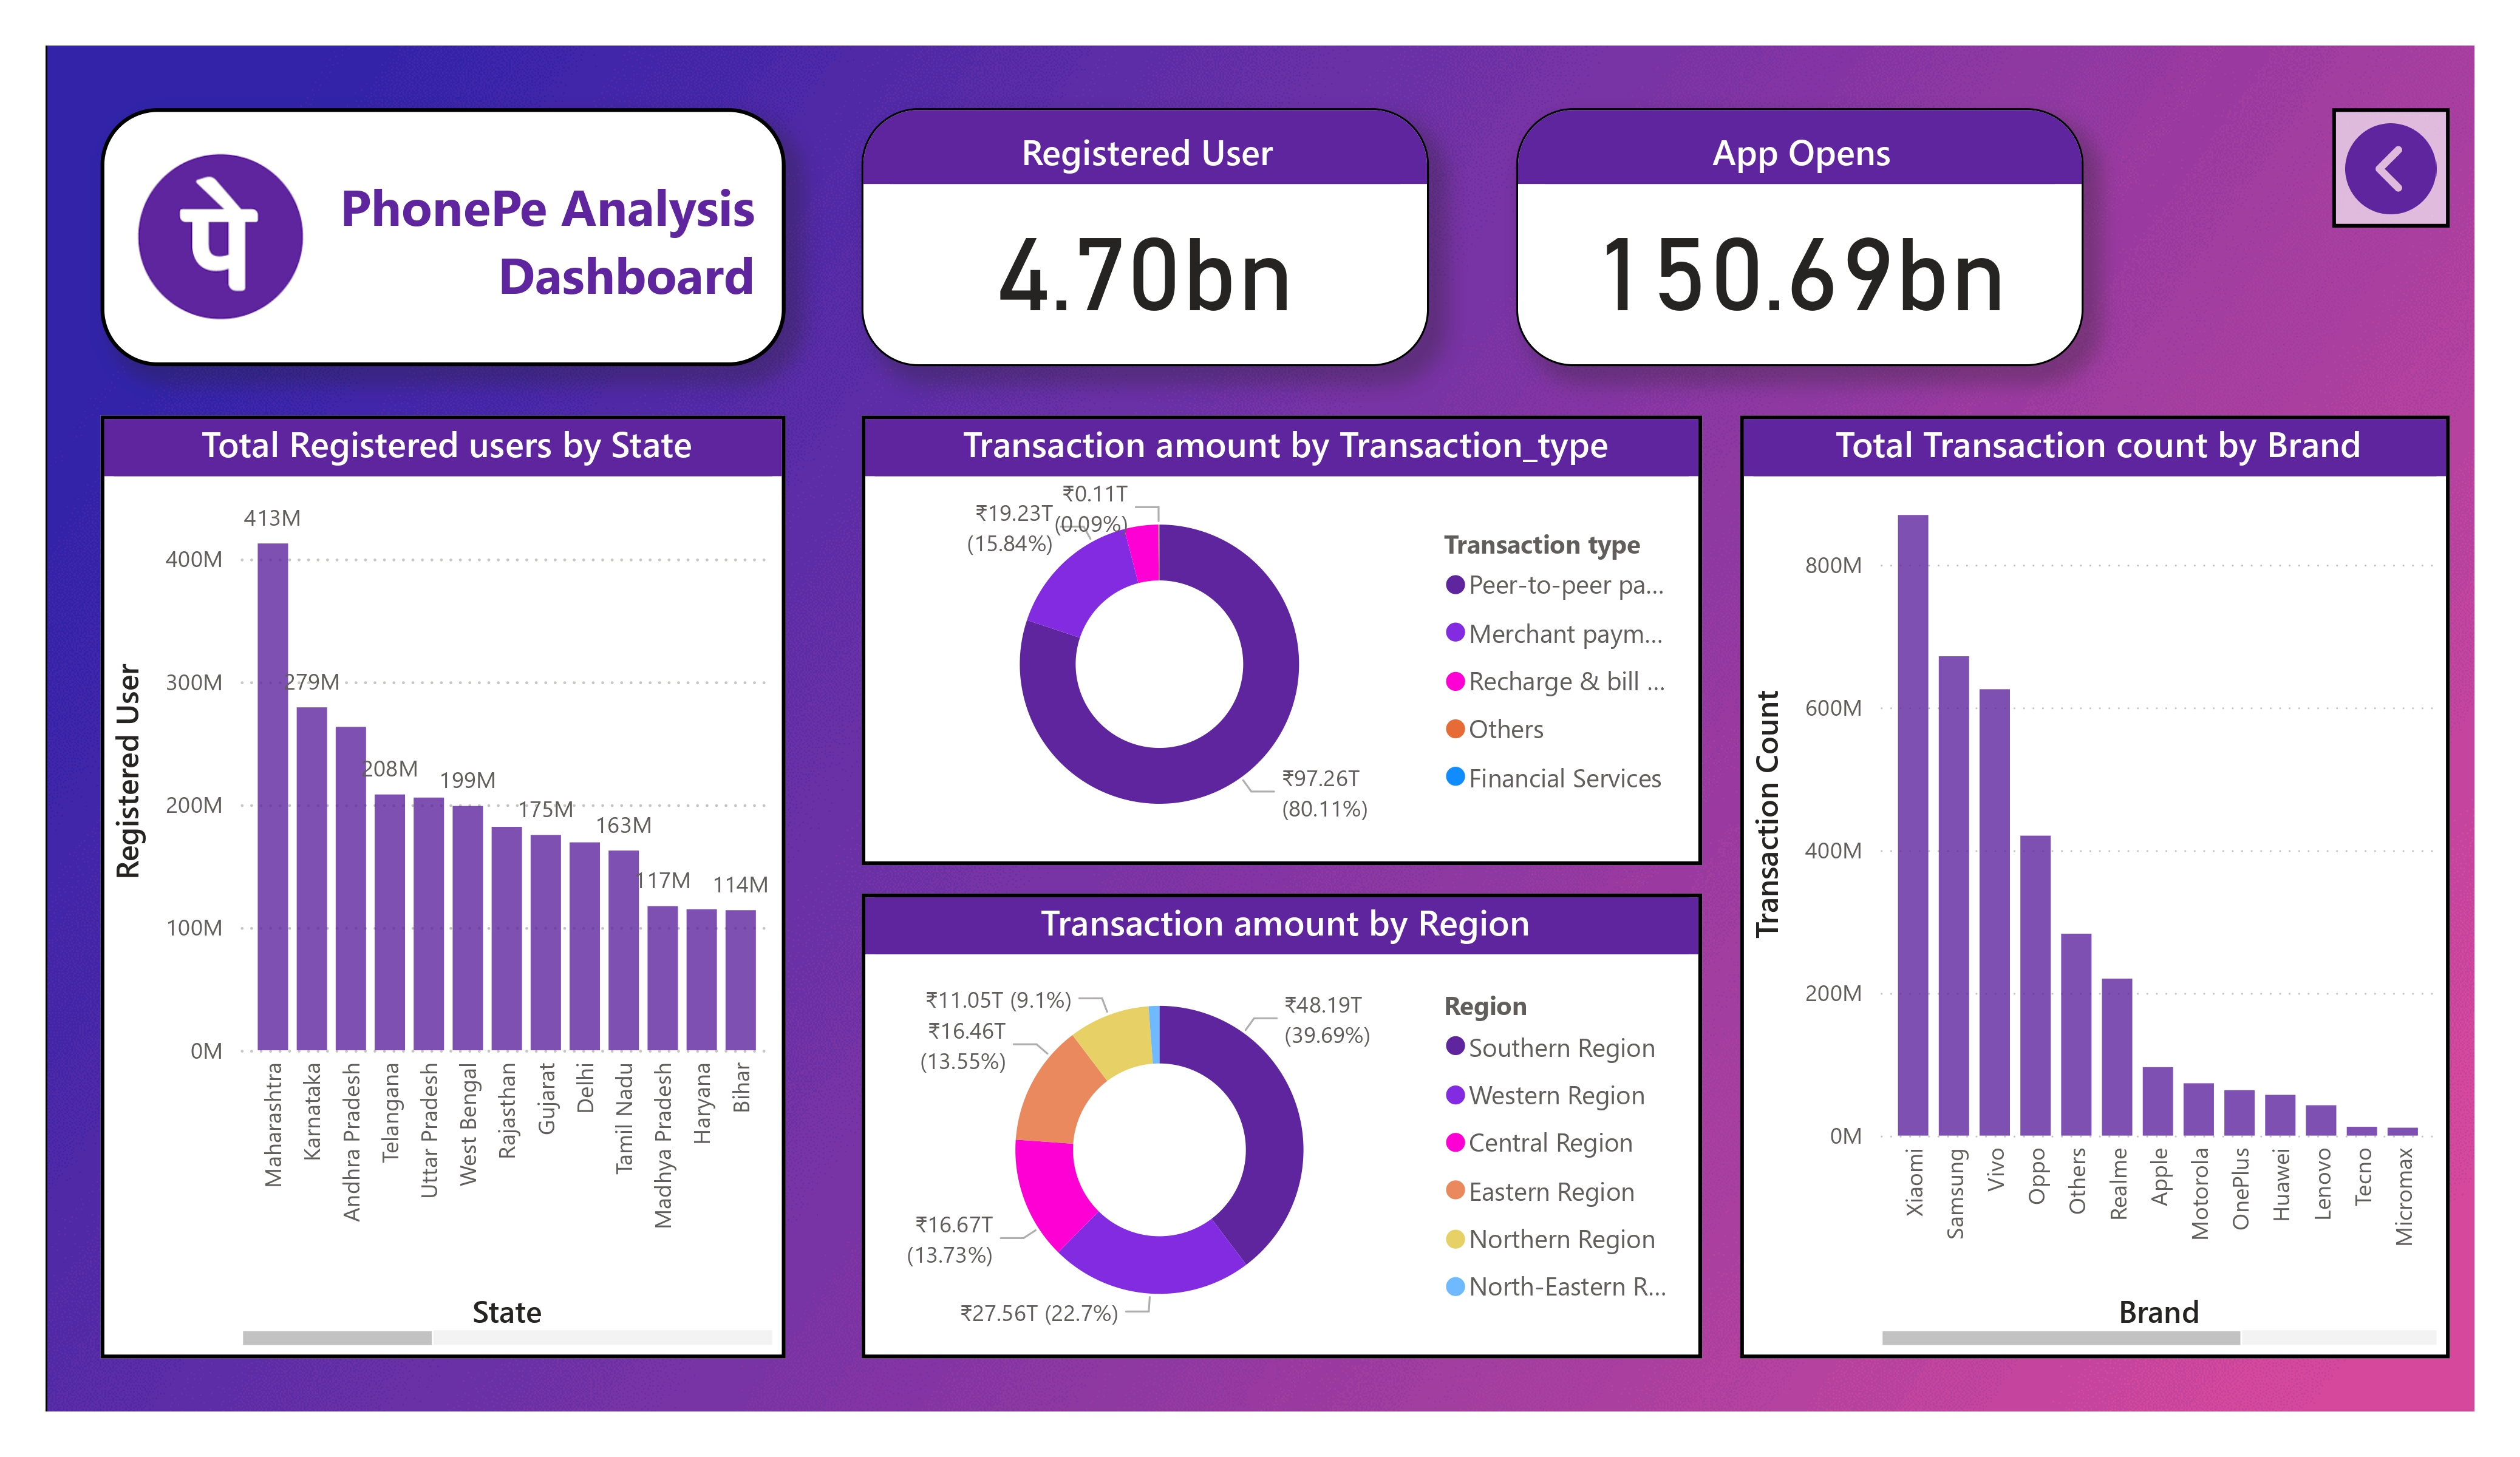

Layout of this report page (visuals, bound fields, positions):
{"tool":"powerbi","page":{"name":"Page 2","canvas":[1280,720],"ordinal":1},"visuals":[{"type":"textbox","box":[28.8,32.9,360.9,135.8],"z":0,"group":"g1"},{"type":"columnChart","title":"Total Registered users by State","fields":{"Category":["top_user_dist.State"],"Y":["Sum(top_user_dist.Registered_users)"]},"box":[28.8,194.9,360.9,496.7],"z":0},{"type":"image","box":[41.4,46.7,101.5,107],"z":1000,"group":"g1"},{"type":"columnChart","title":"Total Transaction count by Brand","fields":{"Category":["agg_user.Brand"],"Y":["Sum(agg_user.Transaction_count)"]},"box":[893.3,194.9,373.2,496.7],"z":1000},{"type":"donutChart","title":"Transaction amount by Region","fields":{"Category":["agg_trans.Region"],"Y":["Sum(agg_trans.Transaction_amount)"]},"box":[429.5,447.3,443.2,244.3],"z":2000},{"type":"donutChart","title":"Transaction amount by Transaction_type","fields":{"Y":["Sum(agg_trans.Transaction_amount)"],"Category":["agg_trans.Transaction_type"]},"box":[429.5,194.9,443.2,237.4],"z":3000},{"type":"card","title":"App Opens","fields":{"Values":["Sum(map_user.App_opens)"]},"box":[775.3,32.9,299.1,135.8],"z":4000},{"type":"card","title":"Registered User","fields":{"Values":["Sum(map_user.Registered_users)"]},"box":[429.5,32.9,299.1,135.8],"z":5000},{"type":"image","box":[1204.8,32.9,61.7,63.1],"z":6000},{"type":"group","id":"g1","title":"Group 1","box":[28.8,32.9,360.9,135.8],"z":7000}]}

Visuals, with their boxes on the page's 1280x720 design canvas (x1, y1, x2, y2). These are canvas units, not pixel positions in the 2520x1457 screenshot, which may show the page scaled, cropped or inside an application window:
textbox: (x1=29, y1=33, x2=390, y2=169)
"Total Registered users by State" columnChart: (x1=29, y1=195, x2=390, y2=692)
image: (x1=41, y1=47, x2=143, y2=154)
"Total Transaction count by Brand" columnChart: (x1=893, y1=195, x2=1266, y2=692)
"Transaction amount by Region" donutChart: (x1=430, y1=447, x2=873, y2=692)
"Transaction amount by Transaction_type" donutChart: (x1=430, y1=195, x2=873, y2=432)
"App Opens" card: (x1=775, y1=33, x2=1074, y2=169)
"Registered User" card: (x1=430, y1=33, x2=729, y2=169)
image: (x1=1205, y1=33, x2=1266, y2=96)
"Group 1" group: (x1=29, y1=33, x2=390, y2=169)
